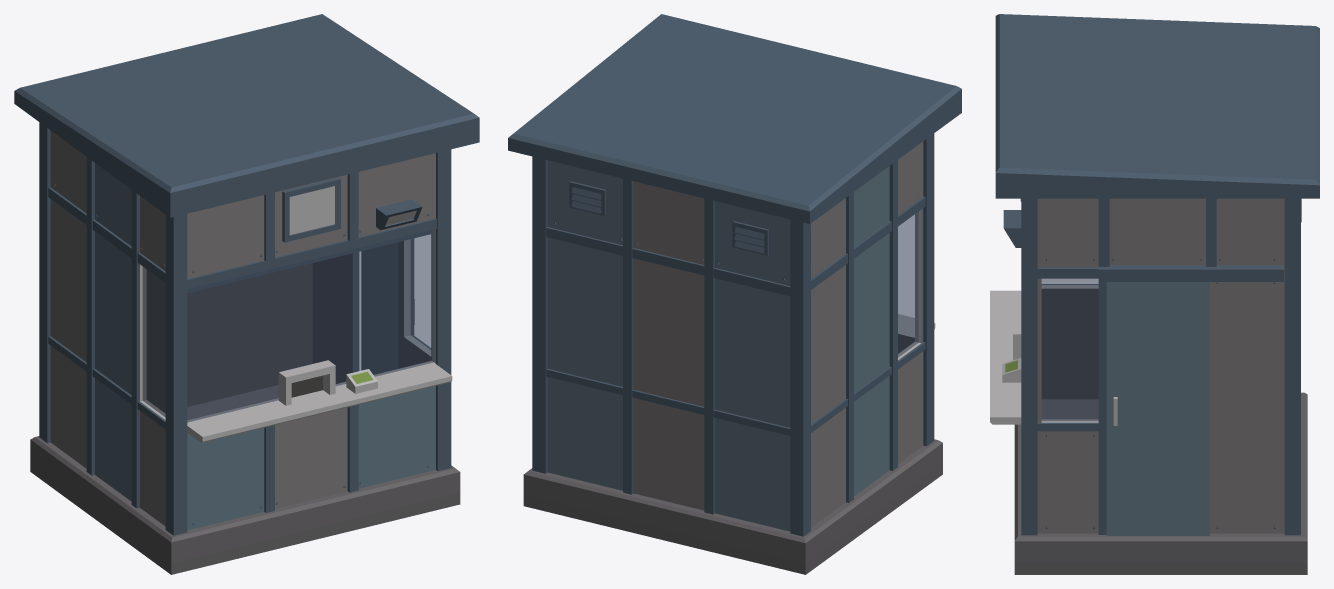
File: passport-control-booth-7724c6.glb
3 renders of one model, left to right at view 1: azimuth 30°, elevation 25°; view 2: azimuth 150°, elevation 25°; view 3: azimuth 270°, elevation 25°, orthographic. The views are drawn at different scales.
Visible parts, largest first — view 1: booth-body, glass, door-leaf; view 2: booth-body, glass; view 3: booth-body, door-leaf, glass.
Boxes of the visible parts, x1,y1,x2,y2 form: booth-body: (14, 14, 479, 574); glass: (142, 229, 434, 422); door-leaf: (361, 239, 414, 374); booth-body: (508, 14, 961, 574); glass: (898, 212, 918, 357); booth-body: (990, 14, 1319, 574); door-leaf: (1106, 282, 1209, 535); glass: (1041, 278, 1098, 421).
Bounding box in the file's own units: 2.74 × 3.34 × 2.43.
